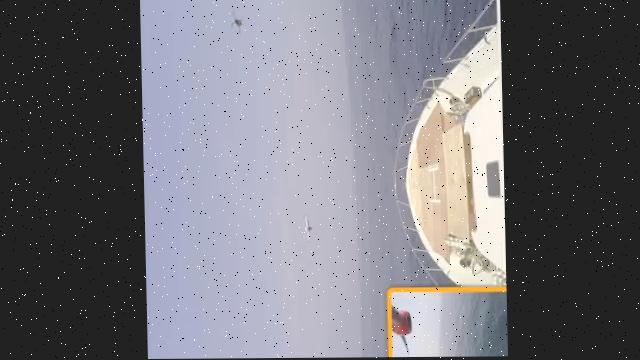drone: (205, 0, 266, 80)
